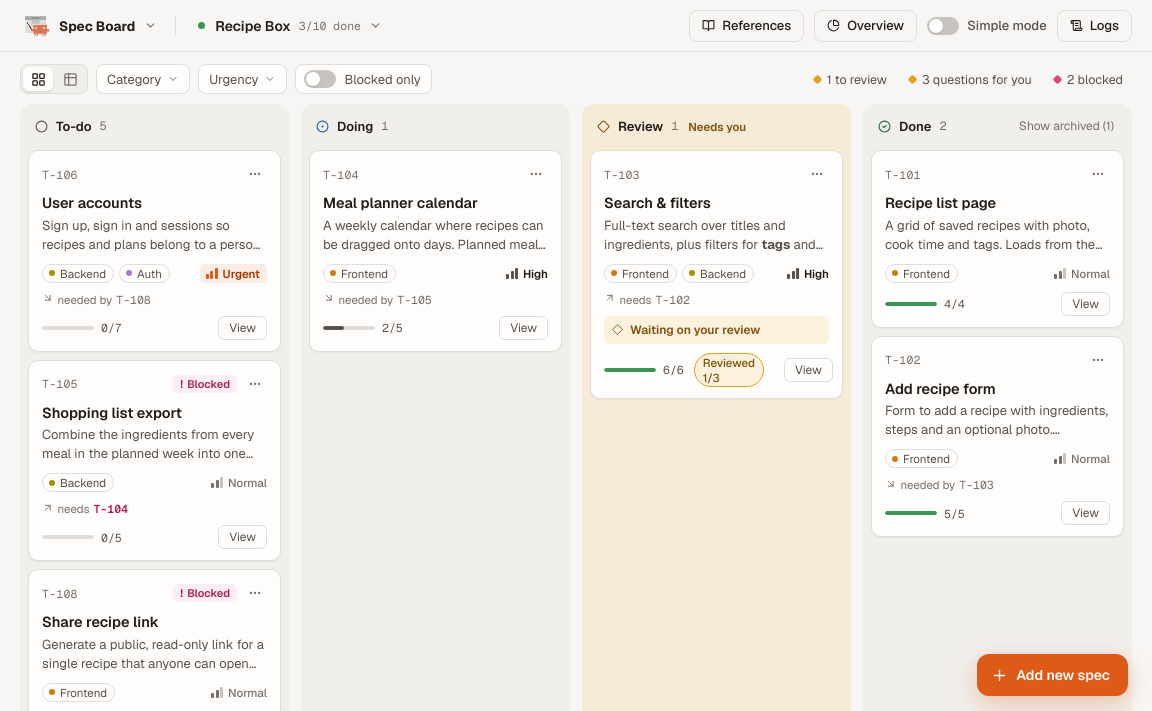
Scenario: the actions start the right kind › Overview Refresh › stays Refreshing when the modal is reopened during the run
What coordinates should you click on to do the following:
click the button "Overview"
I would click on:
 (866, 26)
Its box is [814,10,917,42].
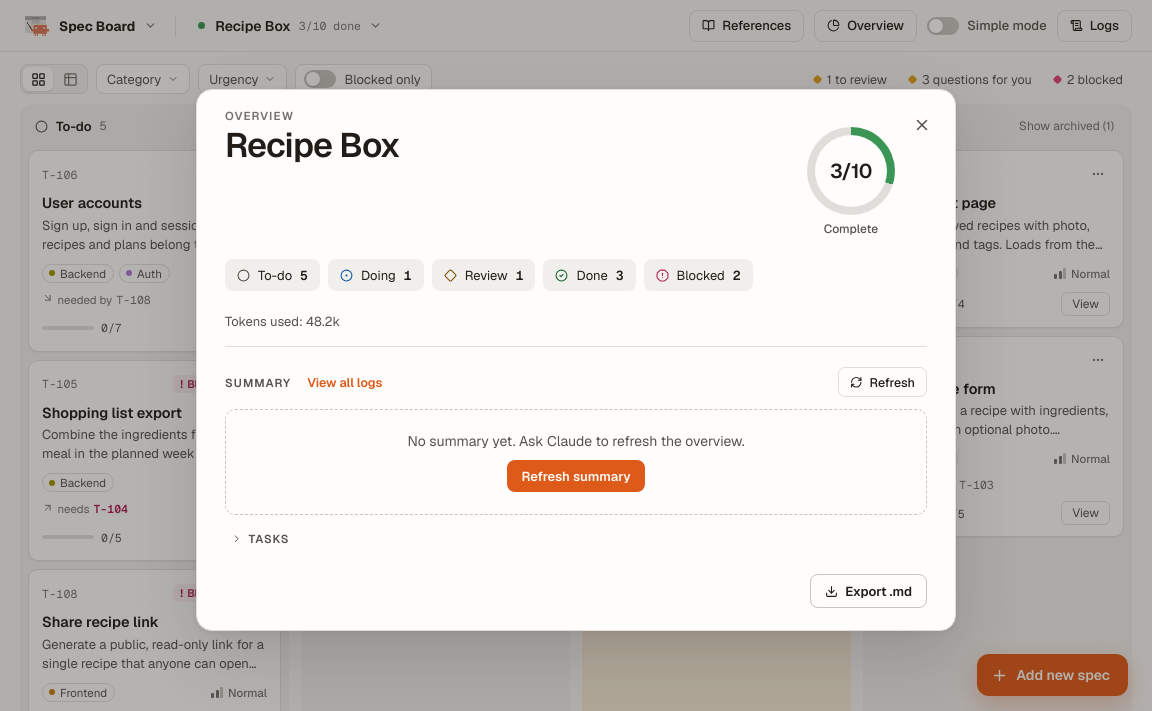
What coordinates should you click on to do the following:
click the button "Refresh"
I would click on:
 (883, 382)
Its box is [838,367,927,397].
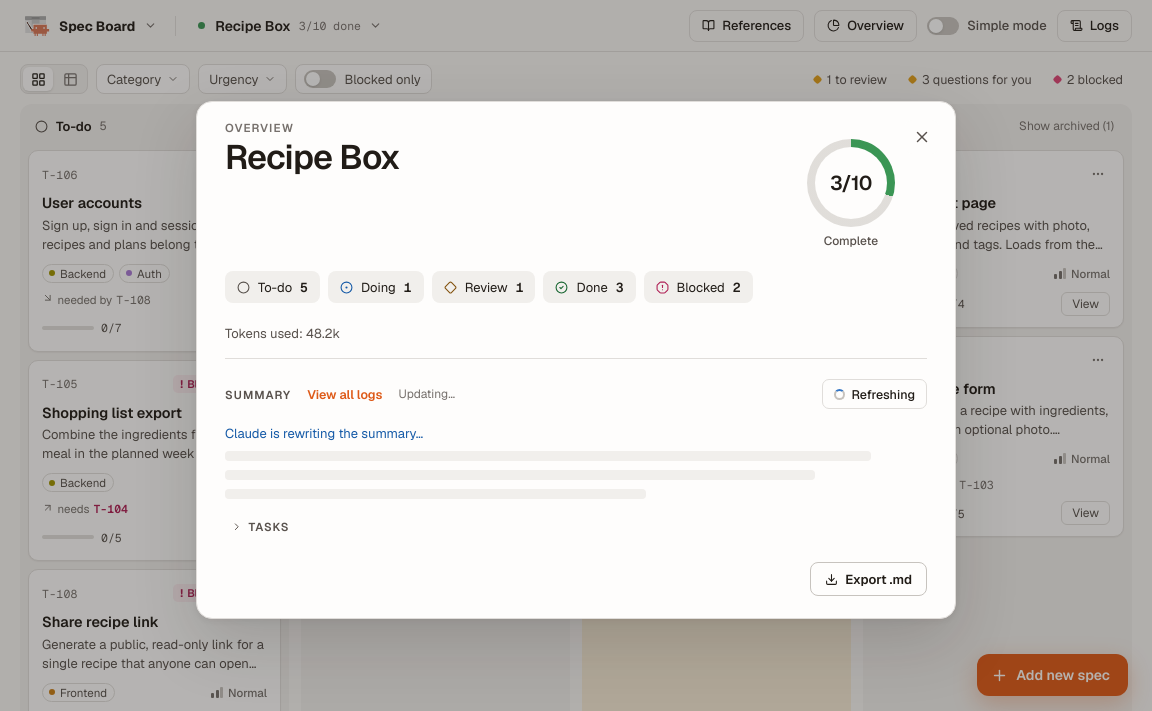
What coordinates should you click on to do the following:
click the button named "Close"
I would click on:
 (922, 137)
Its box is [905,120,939,154].
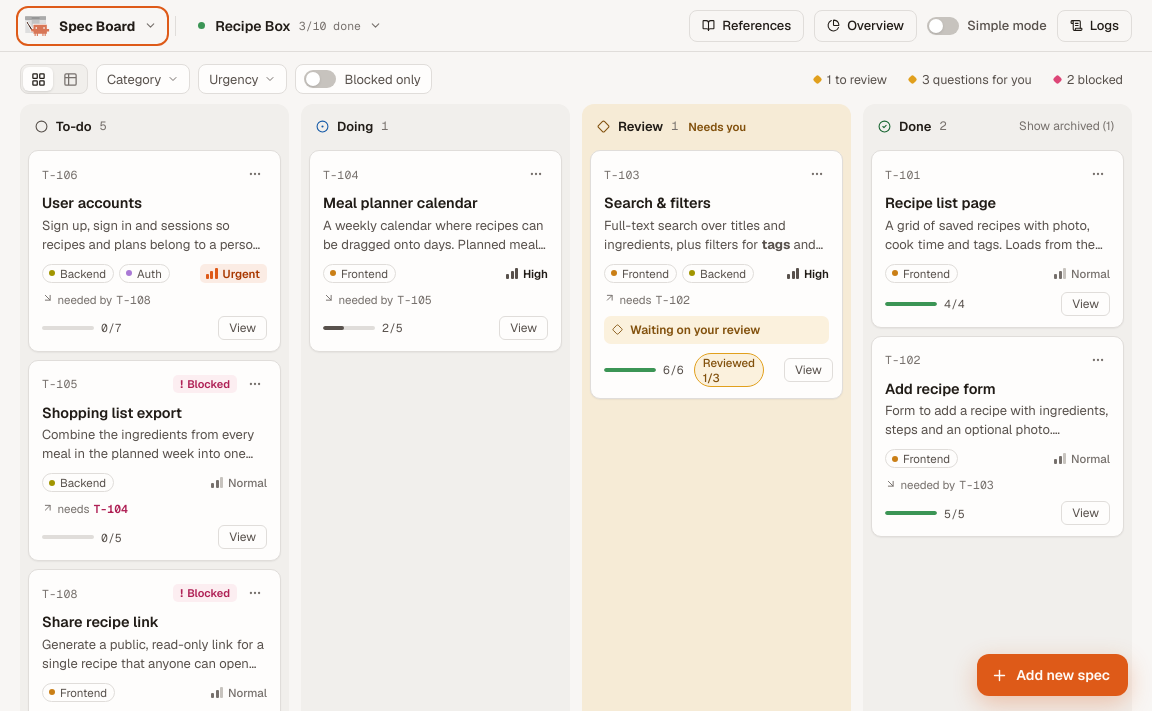
What coordinates should you click on to do the following:
click the button "Overview"
I would click on:
 (866, 26)
Its box is [814,10,917,42].
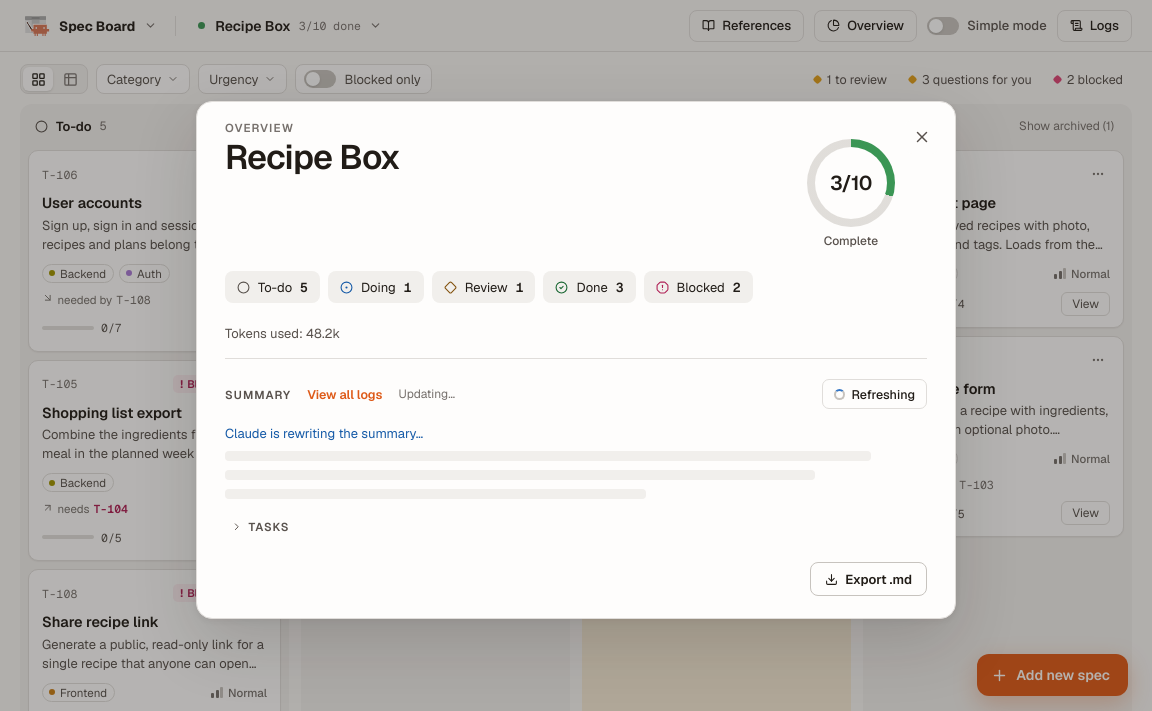
expect the button "Refreshing" is shown: met, box [822,379,927,409]
